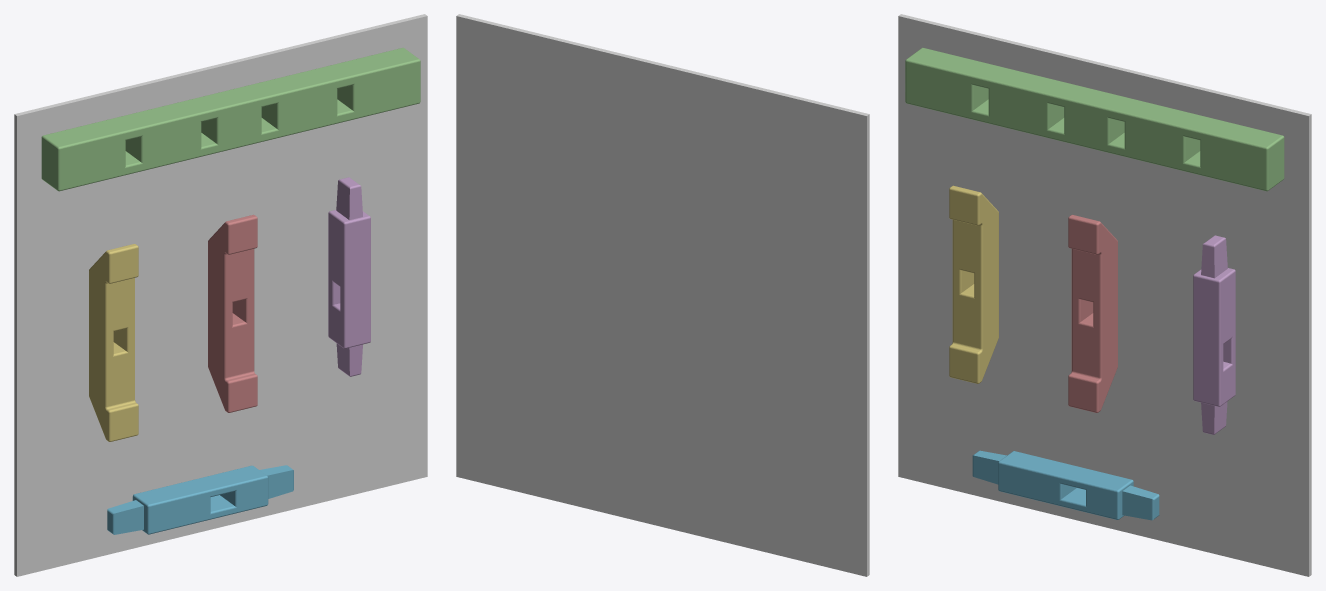
Rendered from pickup_layout.glb.
The picture shows the model from 3 angles, left to right: view 1: azimuth 30°, elevation 25°; view 2: azimuth 150°, elevation 25°; view 3: azimuth 330°, elevation 25°; orthographic projection.
Parts seen in each view (by area): view 1: world, 6.obj, 0.obj, 1.obj, 2.obj, 3.obj; view 2: world; view 3: world, 6.obj, 0.obj, 1.obj, 2.obj, 3.obj.
Boxes of the visible parts, <box> form: world: <box>14,14,427,576</box>; 6.obj: <box>41,47,420,191</box>; 0.obj: <box>208,214,257,412</box>; 1.obj: <box>89,244,138,441</box>; 2.obj: <box>107,465,293,534</box>; 3.obj: <box>328,177,370,376</box>; world: <box>456,14,869,576</box>; world: <box>898,14,1311,576</box>; 6.obj: <box>905,47,1284,191</box>; 0.obj: <box>1068,214,1117,412</box>; 1.obj: <box>949,185,998,383</box>; 2.obj: <box>972,450,1159,520</box>; 3.obj: <box>1193,235,1235,434</box>.
Bounding box in the file's own units: 17.24 × 18.49 × 1.72.
